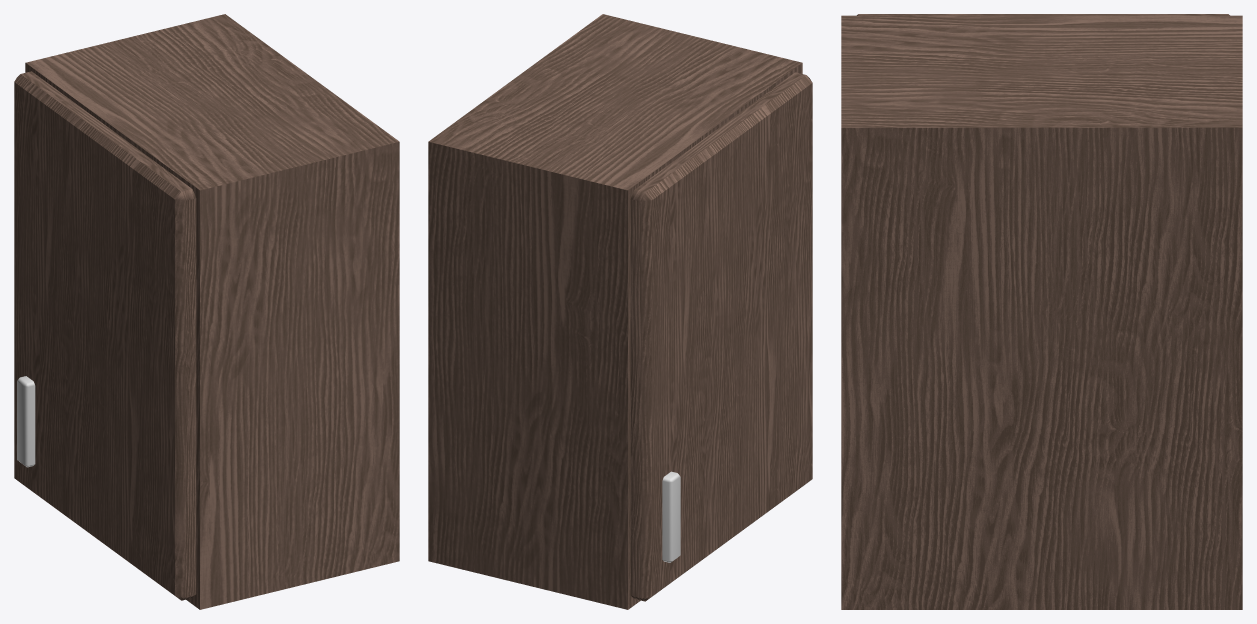
File: kitchen_025.fbx
The picture shows the model from 3 angles, left to right: view 1: azimuth 30°, elevation 25°; view 2: azimuth 150°, elevation 25°; view 3: azimuth 270°, elevation 25°; orthographic projection. The views are drawn at different scales.
Visible parts, largest first — view 1: kitchen_025; view 2: kitchen_025; view 3: kitchen_025.
Boxes of the visible parts, bbox=[...] form: kitchen_025: bbox=[14, 14, 399, 609]; kitchen_025: bbox=[428, 14, 812, 609]; kitchen_025: bbox=[841, 14, 1242, 609].
Bounding box in the file's own units: 56.53 × 75.42 × 100.
